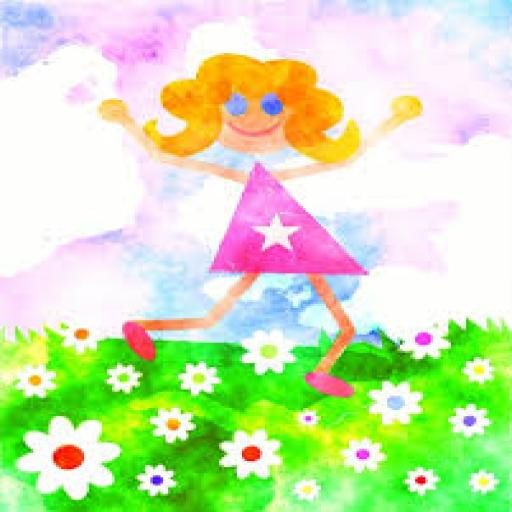person: (93, 36, 433, 416)
